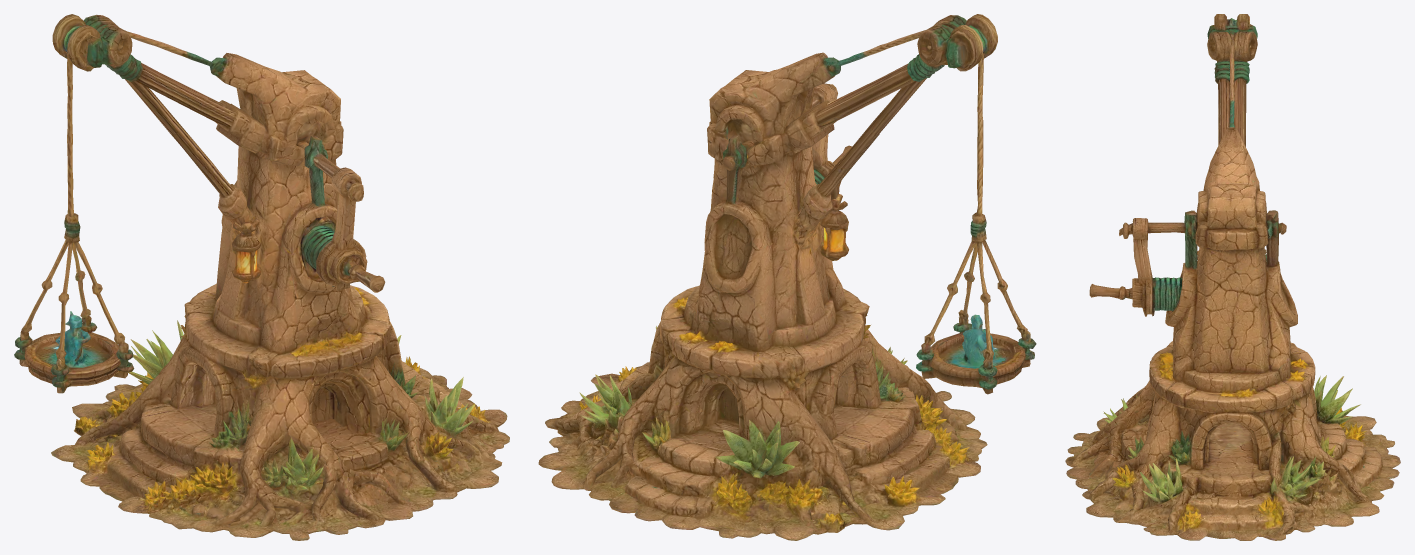
Rendered from crystal-harvesting-rig.glb.
3 renders of one model, left to right at view 1: azimuth 30°, elevation 25°; view 2: azimuth 150°, elevation 25°; view 3: azimuth 270°, elevation 25°, orthographic. The views are drawn at different scales.
Size of the model in its own units: 1.87 by 1.9 by 1.54.
Materials: 1 (1 with a texture image).
